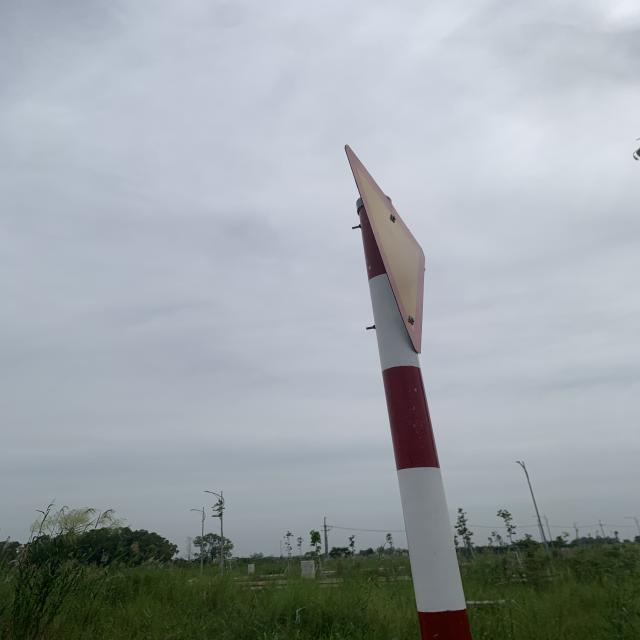Gioi_Han_Toc_Do_25: (344, 145, 427, 354)
